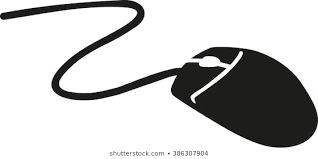mouse: (169, 41, 316, 147)
